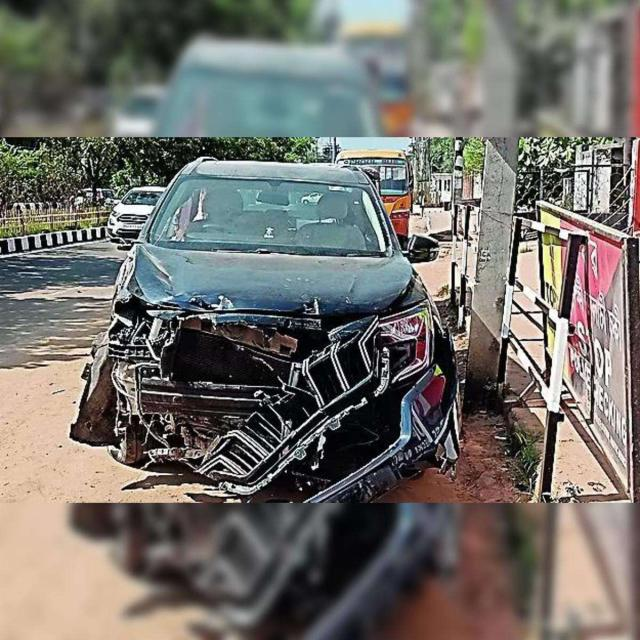accident: (70, 158, 459, 501)
car: (108, 188, 165, 242)
